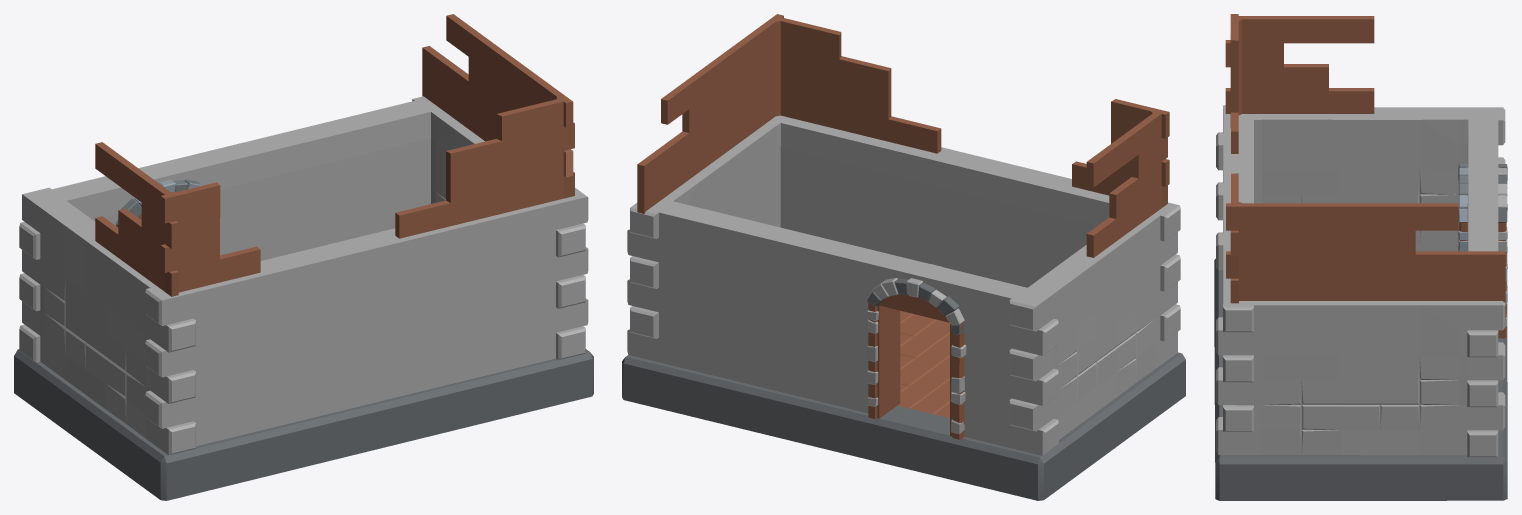
Rendered from LightWoodBuildingLargeConstructionWork2.fbx.
3 views of the same model, side by side, from view 1: azimuth 30°, elevation 25°; view 2: azimuth 150°, elevation 25°; view 3: azimuth 270°, elevation 25° (orthographic). The views are drawn at different scales.
Visible parts, largest first — view 1: LightWoodBuildingLargeConstructionWork2; view 2: LightWoodBuildingLargeConstructionWork2; view 3: LightWoodBuildingLargeConstructionWork2.
Part boxes in pixels (x1,y1,x2,y2): LightWoodBuildingLargeConstructionWork2: (14,14,593,500); LightWoodBuildingLargeConstructionWork2: (622,14,1185,500); LightWoodBuildingLargeConstructionWork2: (1214,14,1507,500).
Bounding box in the file's own units: 1031 × 668 × 621.
5 materials, 1 textured.
